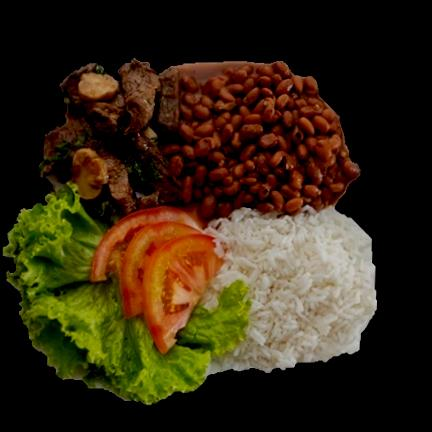beans: (163, 58, 358, 217)
meat: (41, 61, 186, 220)
rice: (199, 211, 377, 374)
salad: (9, 195, 246, 401)
tomato: (93, 214, 226, 352)
